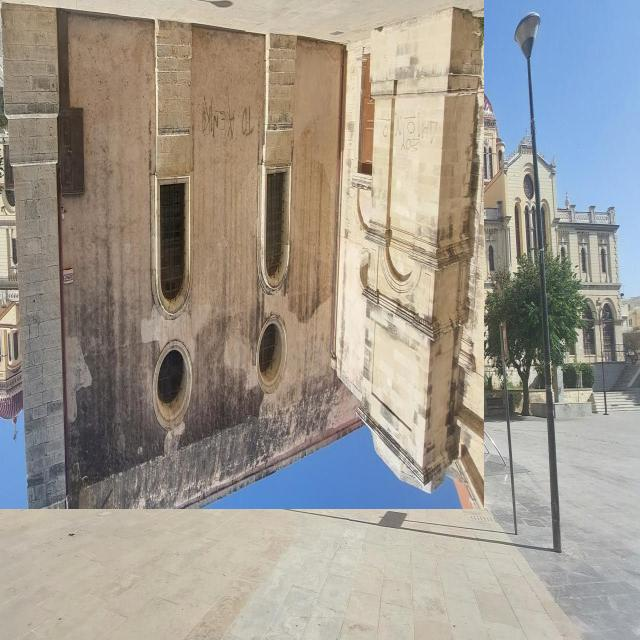Agia Aikaterini: (1, 1, 485, 510)
